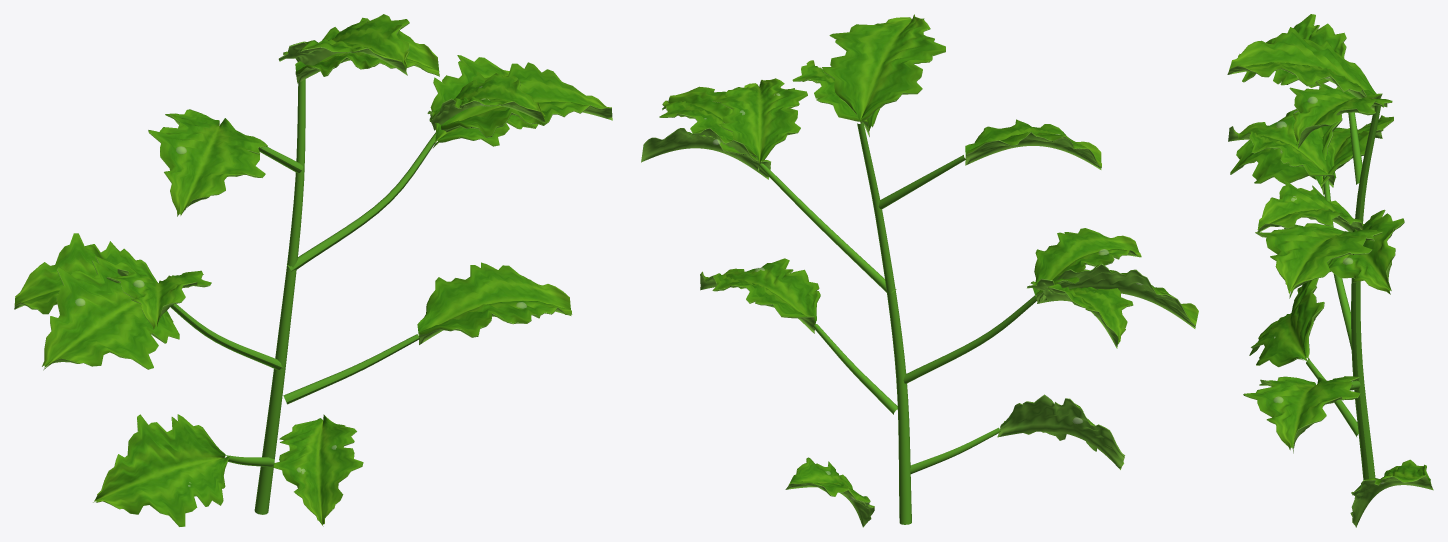
File: cilantro-sprig.glb
3 views of the same model, side by side, from view 1: azimuth 30°, elevation 25°; view 2: azimuth 150°, elevation 25°; view 3: azimuth 270°, elevation 25° (orthographic). The views are drawn at different scales.
Visible parts, largest first — view 1: cilantro-lobes-top, cilantro-stems, cilantro-lobes-underside; view 2: cilantro-lobes-top, cilantro-lobes-underside, cilantro-stems; view 3: cilantro-lobes-top, cilantro-lobes-underside, cilantro-stems, object 4.
Part boxes in pixels (x1,y1,x2,y2): cilantro-lobes-top: (14, 14, 611, 526); cilantro-stems: (170, 79, 440, 514); cilantro-lobes-underside: (14, 20, 612, 526); cilantro-lobes-top: (644, 14, 1198, 518); cilantro-lobes-underside: (641, 18, 1195, 527); cilantro-stems: (758, 122, 1043, 524); cilantro-lobes-top: (1229, 14, 1431, 522); cilantro-lobes-underside: (1227, 15, 1433, 527); cilantro-stems: (1306, 105, 1380, 479); object 4: (1273, 77, 1383, 483).
Size of the model in its own units: 0.1393 by 0.1206 by 0.0469.
Materials: 4 (2 with a texture image).
